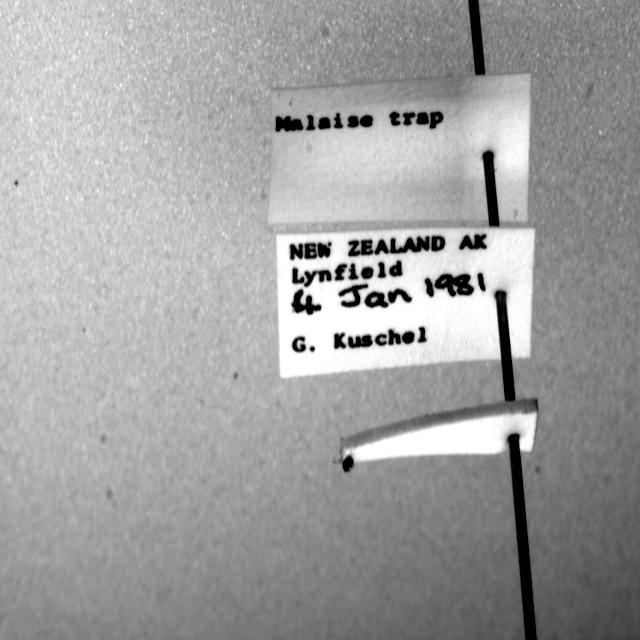mixed_label: (274, 230, 533, 378)
typed_label: (269, 73, 531, 225)
